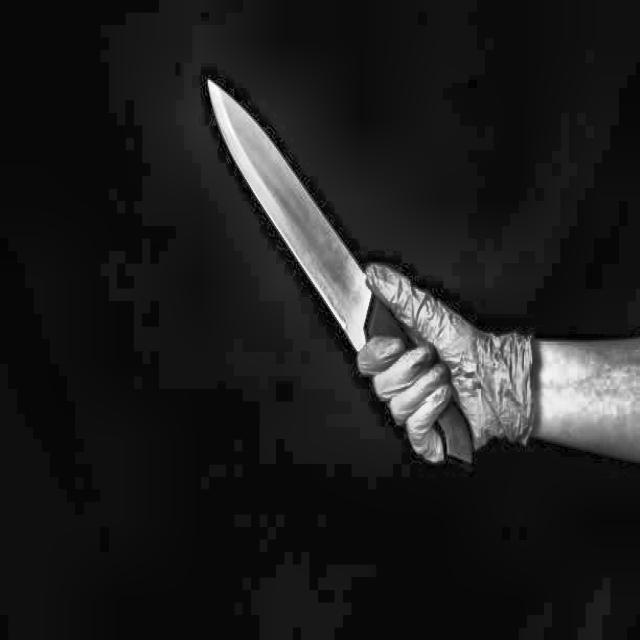pisau: (206, 71, 483, 480)
